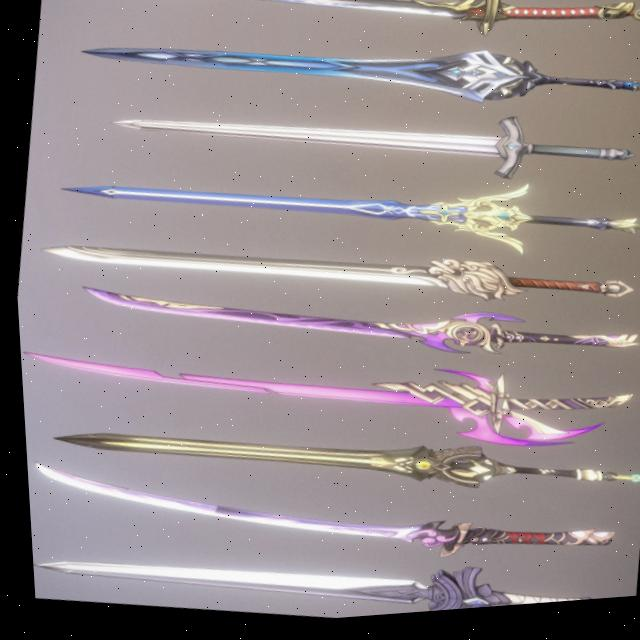knife: (22, 429, 614, 606), (16, 306, 617, 471), (32, 192, 633, 357), (32, 381, 633, 545), (50, 127, 640, 292), (53, 243, 640, 407), (76, 65, 640, 228), (57, 0, 640, 153), (25, 511, 611, 640), (41, 0, 633, 82)
